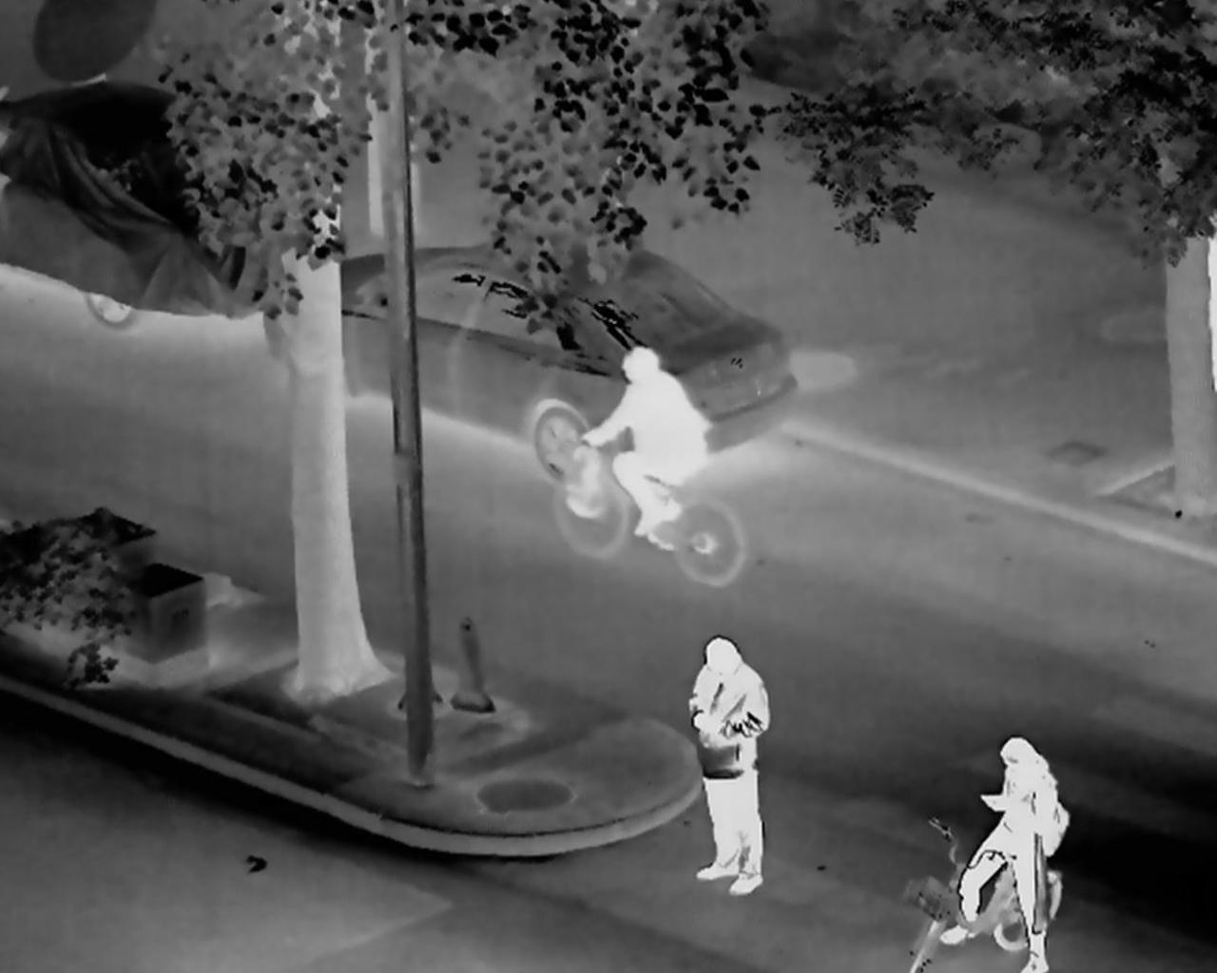person: (941, 735, 1059, 973), (586, 344, 707, 540), (686, 635, 772, 898)
